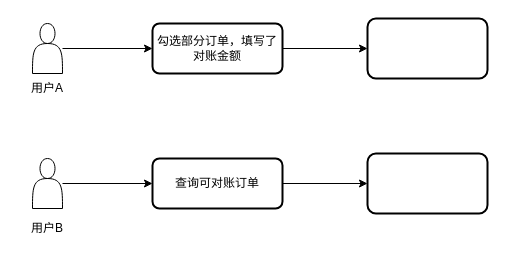
Some shapes in this 505 by 260 pixel diagram are drawn without their labels. The shapes that lost their labels are listed below. From the top down, each one's centre as x and y in pixels, then its label:
At point 427,48: "系统保存 订单号-对账金额数据".
At point 427,183: "可对账单".
